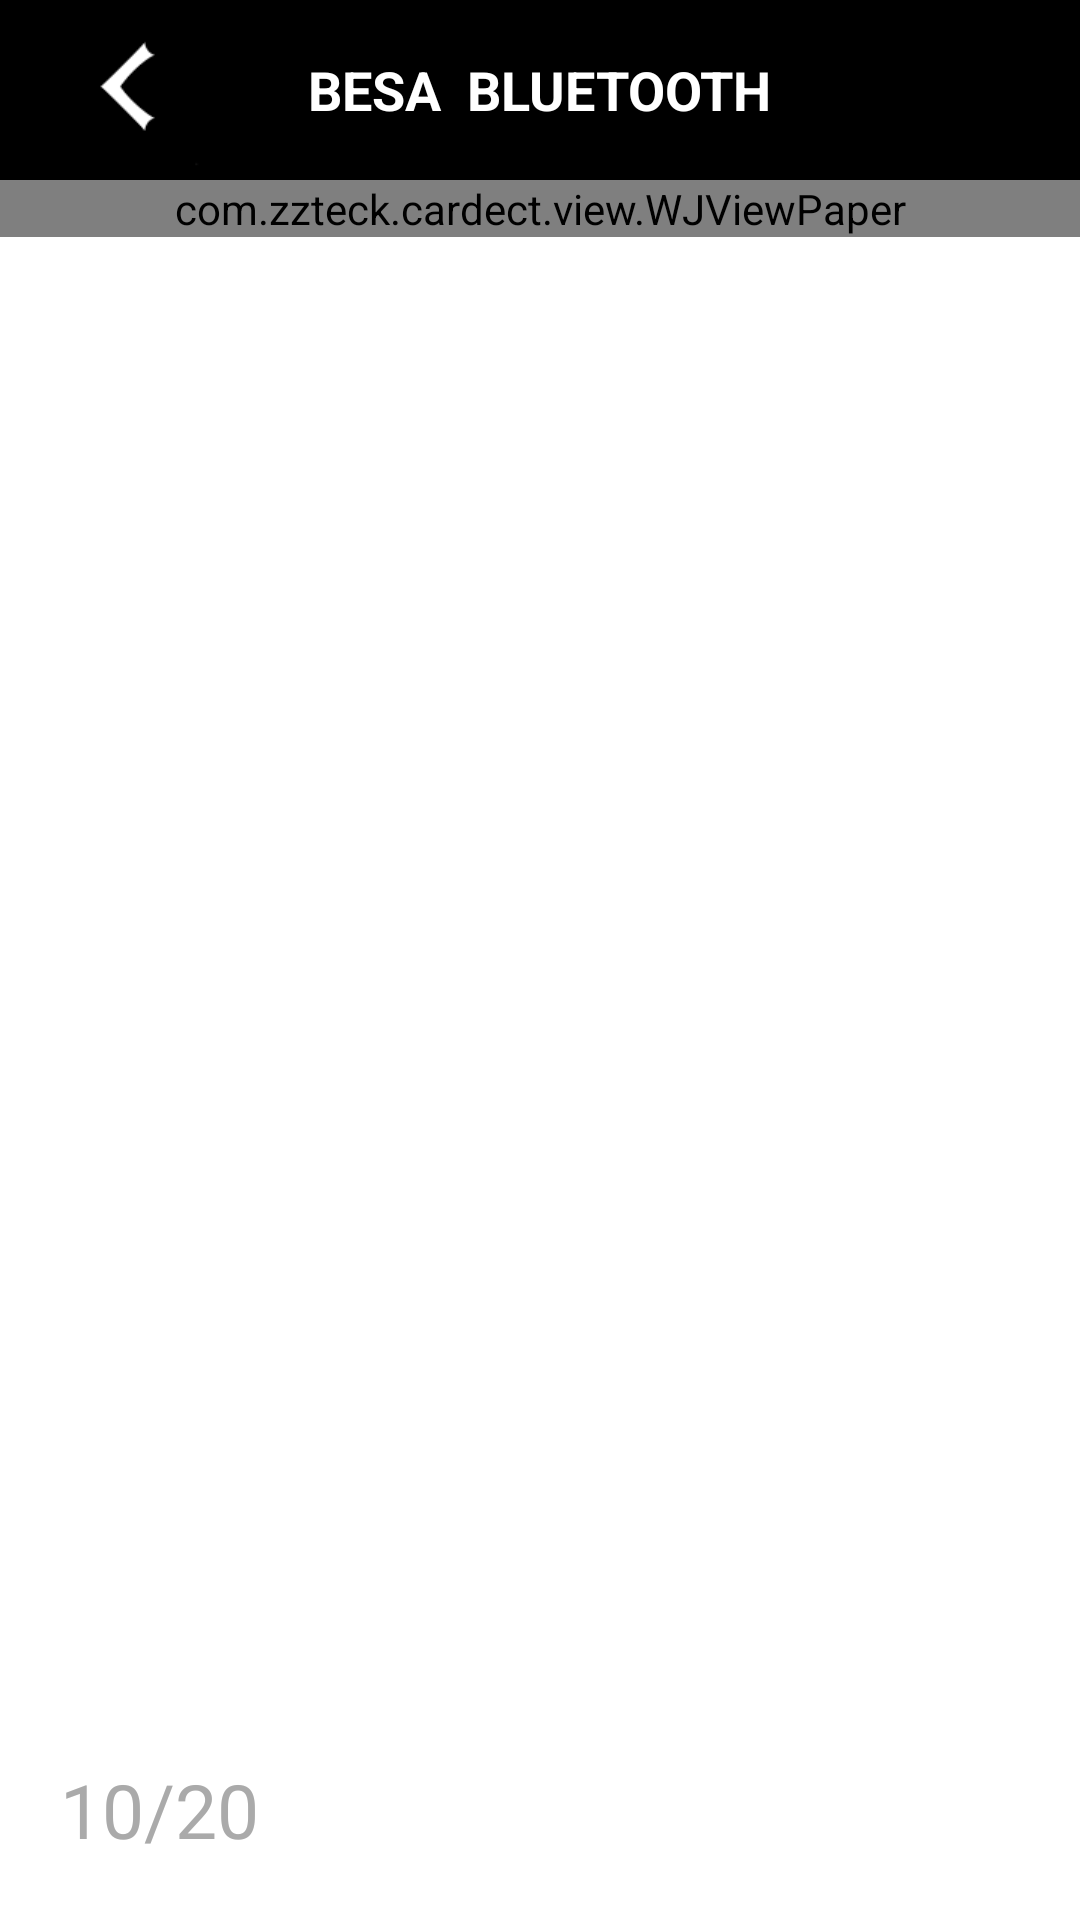

Screen size 1080x1920. Icon name, then its box in pixels as (x1, y1, x2, y2):
back: (100, 42, 155, 131)
